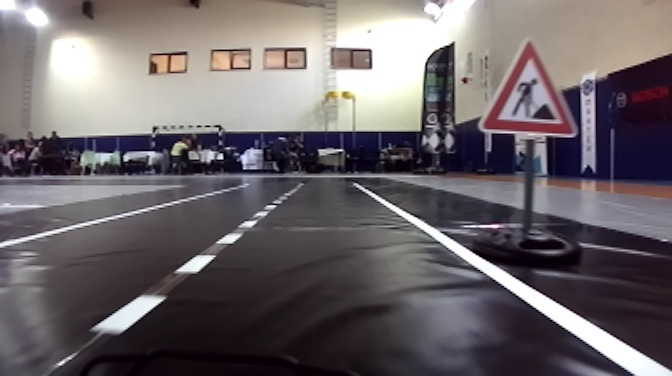yol_yapimi: (472, 38, 579, 136)
